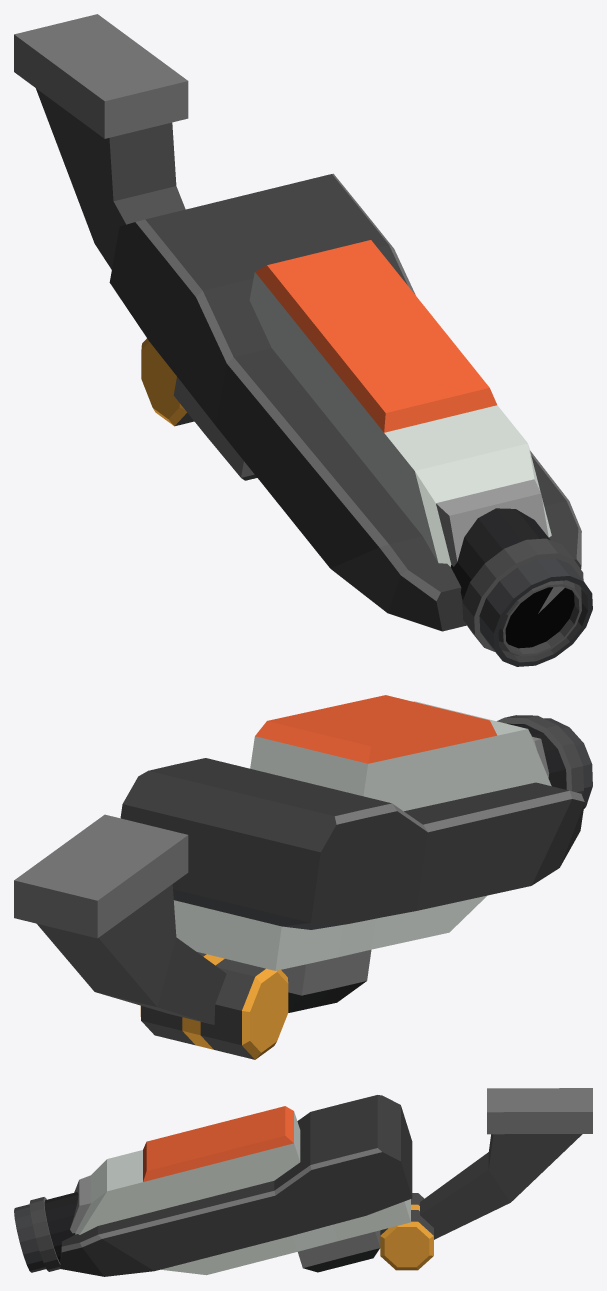
Rendered from Camera_01.glb.
The picture shows the model from 3 angles, top to bottom: view 1: azimuth 30°, elevation 25°; view 2: azimuth 150°, elevation 25°; view 3: azimuth 270°, elevation 25°; orthographic projection. The views are drawn at different scales.
Visible parts, largest first — view 1: Camera_01; view 2: Camera_01; view 3: Camera_01.
Part boxes in pixels (<box>): Camera_01: <box>14,14,592,666</box>; Camera_01: <box>14,695,592,1059</box>; Camera_01: <box>14,1088,592,1276</box>.
Size of what is drawn, in the model's own units: 0.2207 by 0.3088 by 0.955.
Materials: 1 (1 with a texture image).
